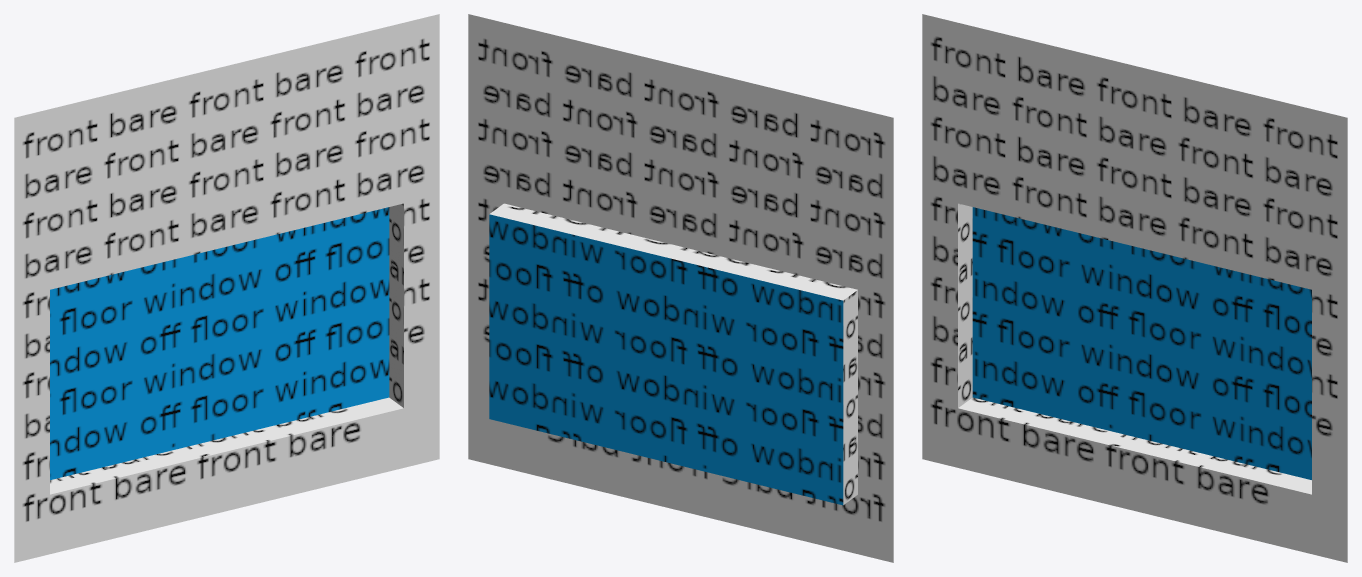
The model's file is window_off_floor.gltf.
The picture shows the model from 3 angles, left to right: view 1: azimuth 30°, elevation 25°; view 2: azimuth 150°, elevation 25°; view 3: azimuth 330°, elevation 25°; orthographic projection.
Parts seen in each view (by area): view 1: window_off_floor; view 2: window_off_floor; view 3: window_off_floor.
Boxes of the visible parts, <box> form: window_off_floor: <box>14,14,439,562</box>; window_off_floor: <box>468,14,893,562</box>; window_off_floor: <box>922,14,1347,562</box>.
Bounding box in the file's own units: 5 × 5 × 0.3.
2 materials, 2 textured.
